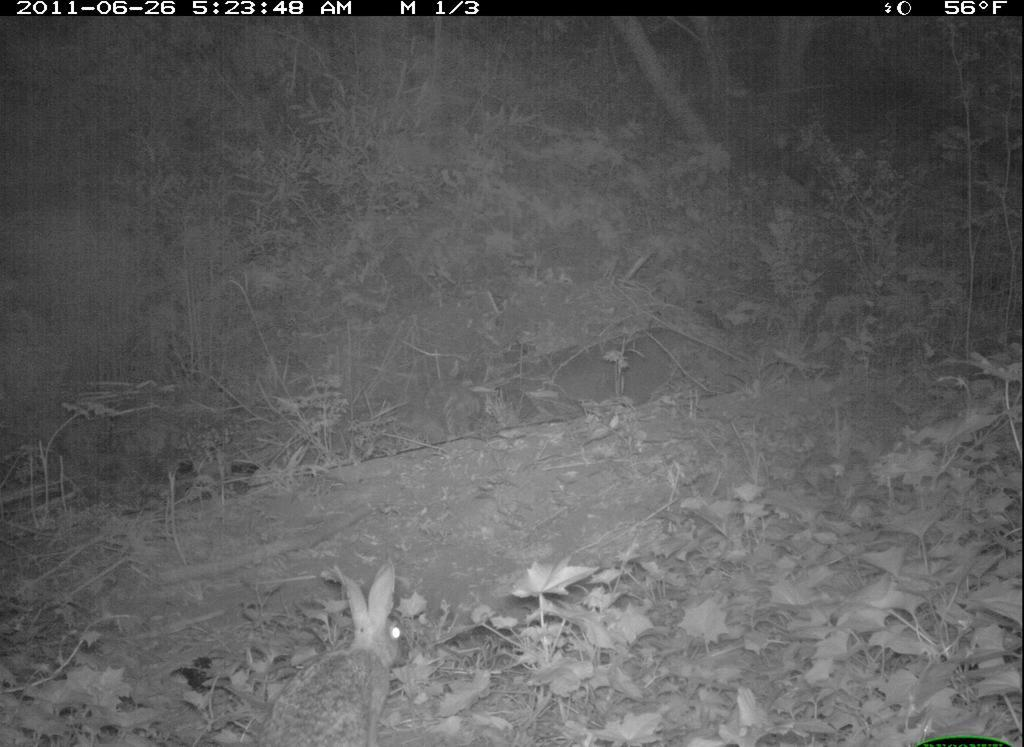rabbit: (249, 552, 417, 747)
